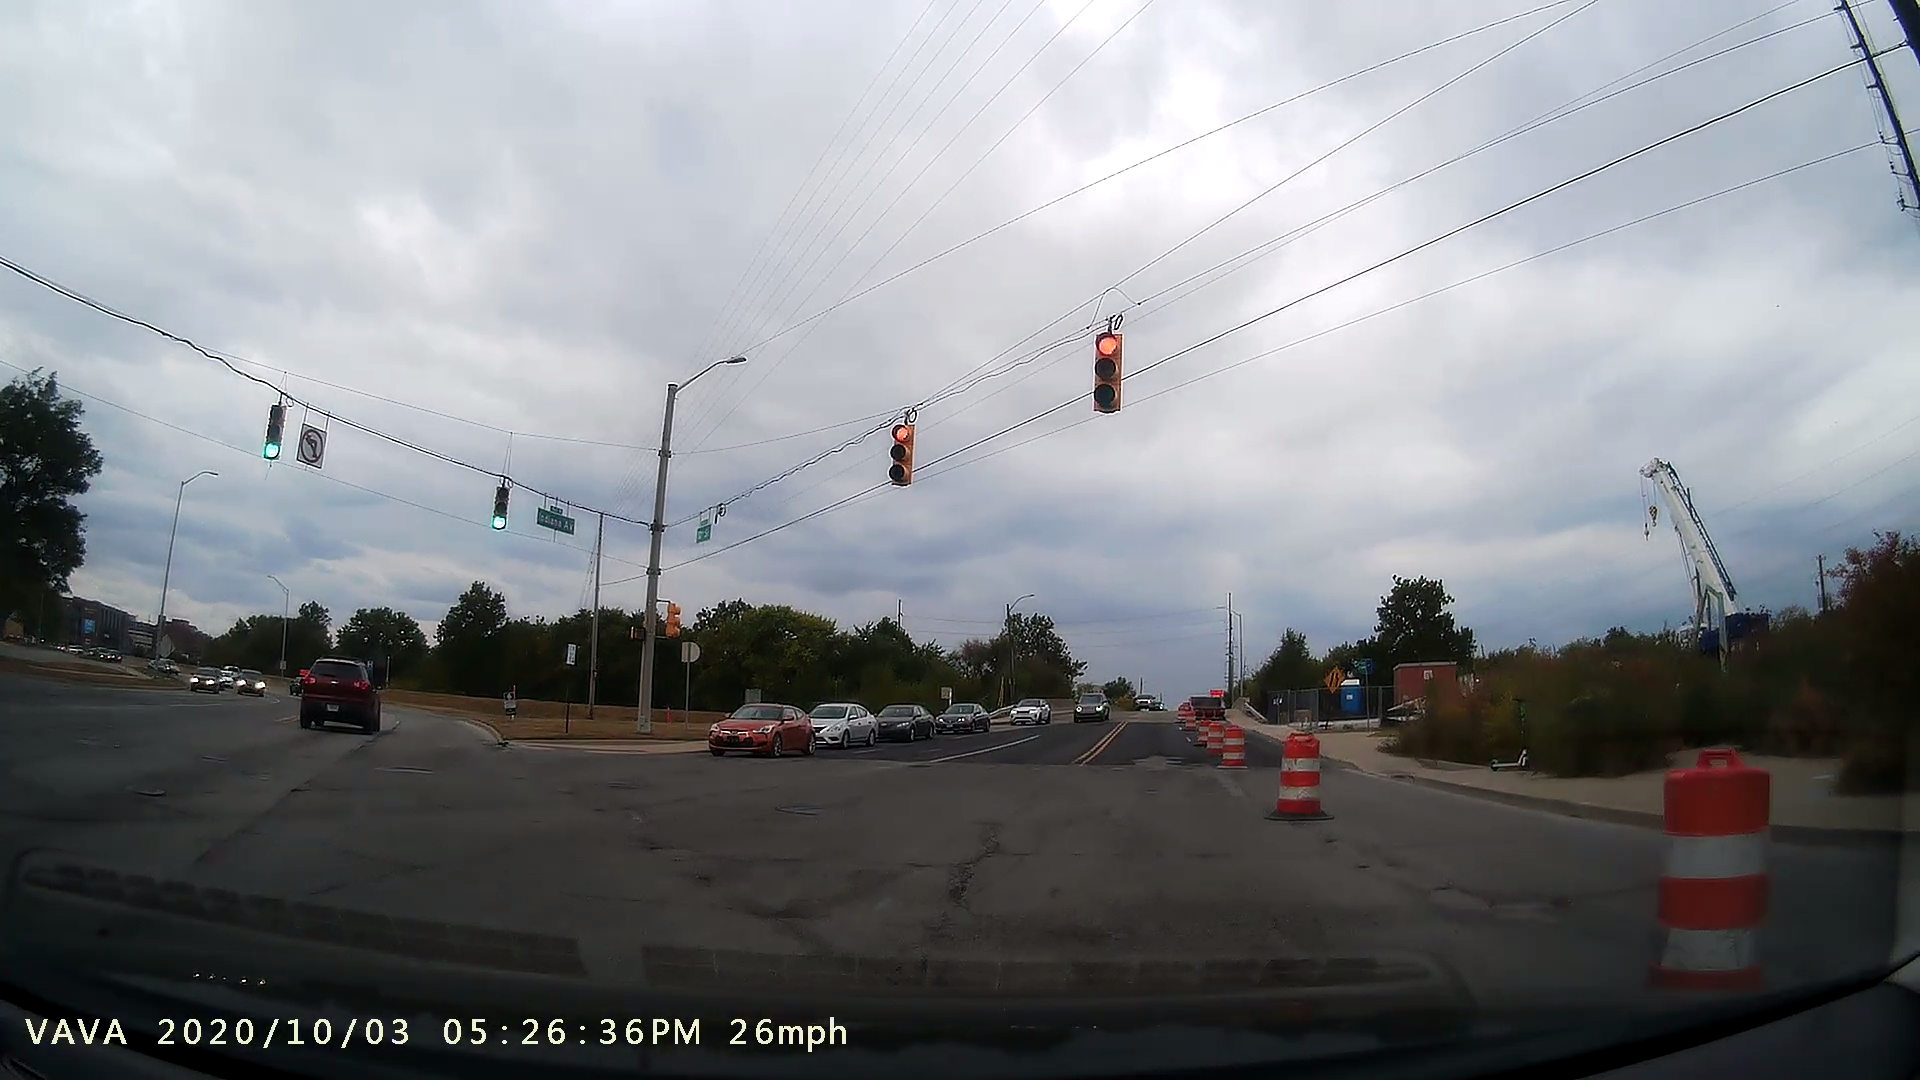const_barrel: (1262, 721, 1336, 832), (1215, 712, 1253, 778)
